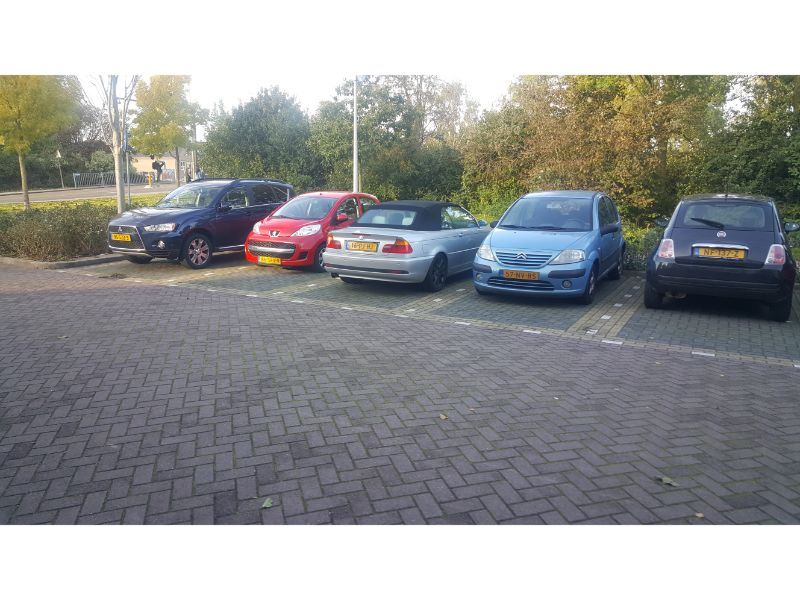kenteken: (696, 244, 746, 261), (499, 265, 539, 282), (346, 239, 381, 253), (257, 255, 283, 268)
